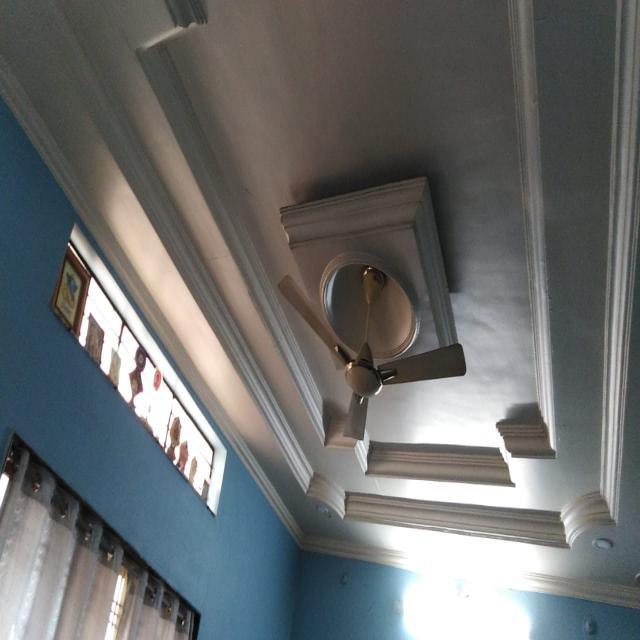Non_Damaged: (1, 4, 634, 634)
